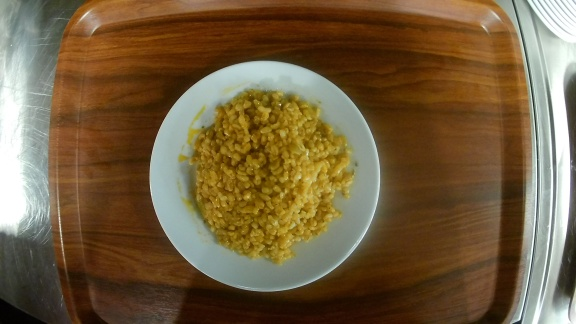bulgur: (149, 60, 382, 292)
